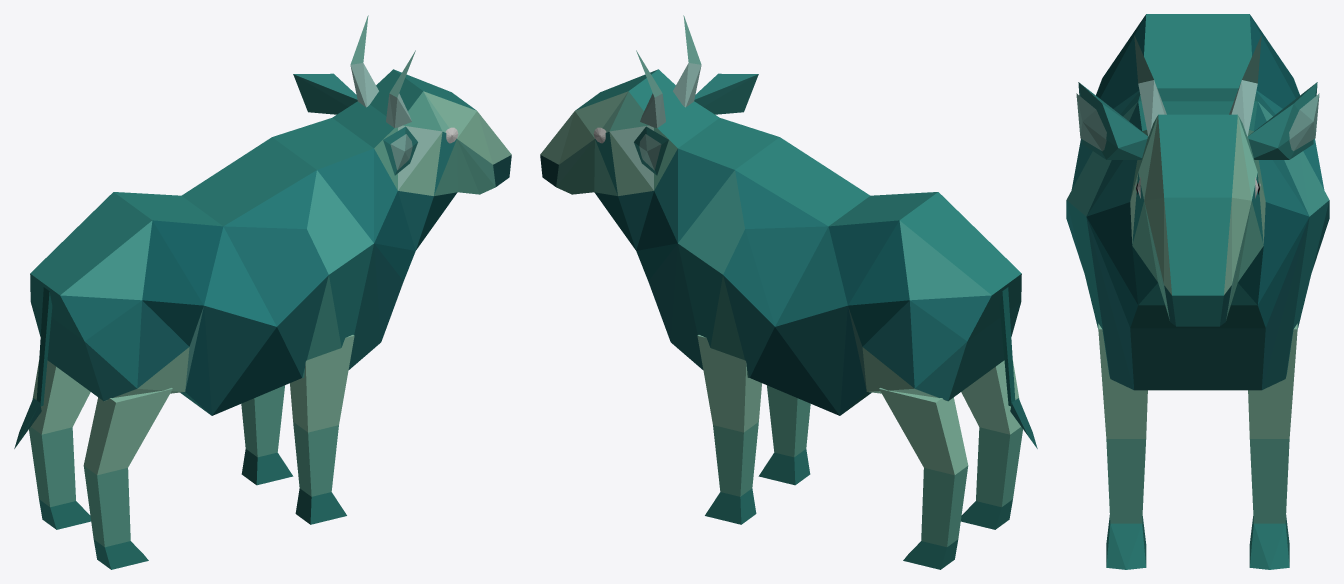
Rendered from foldling_cow.glb.
3 renders of one model, left to right at view 1: azimuth 30°, elevation 25°; view 2: azimuth 150°, elevation 25°; view 3: azimuth 270°, elevation 25°, orthographic. The views are drawn at different scales.
Parts seen in each view (by area): view 1: sapi; view 2: sapi; view 3: sapi.
Part boxes in pixels (box(x1,y1,x2,y2)): sapi: box(14, 15, 511, 569); sapi: box(540, 15, 1037, 569); sapi: box(1066, 14, 1329, 569).
Bounding box in the file's own units: 0.2915 × 0.251 × 0.1023.
